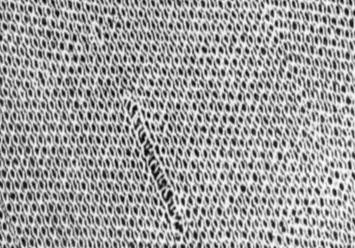slub: (122, 94, 191, 237)
